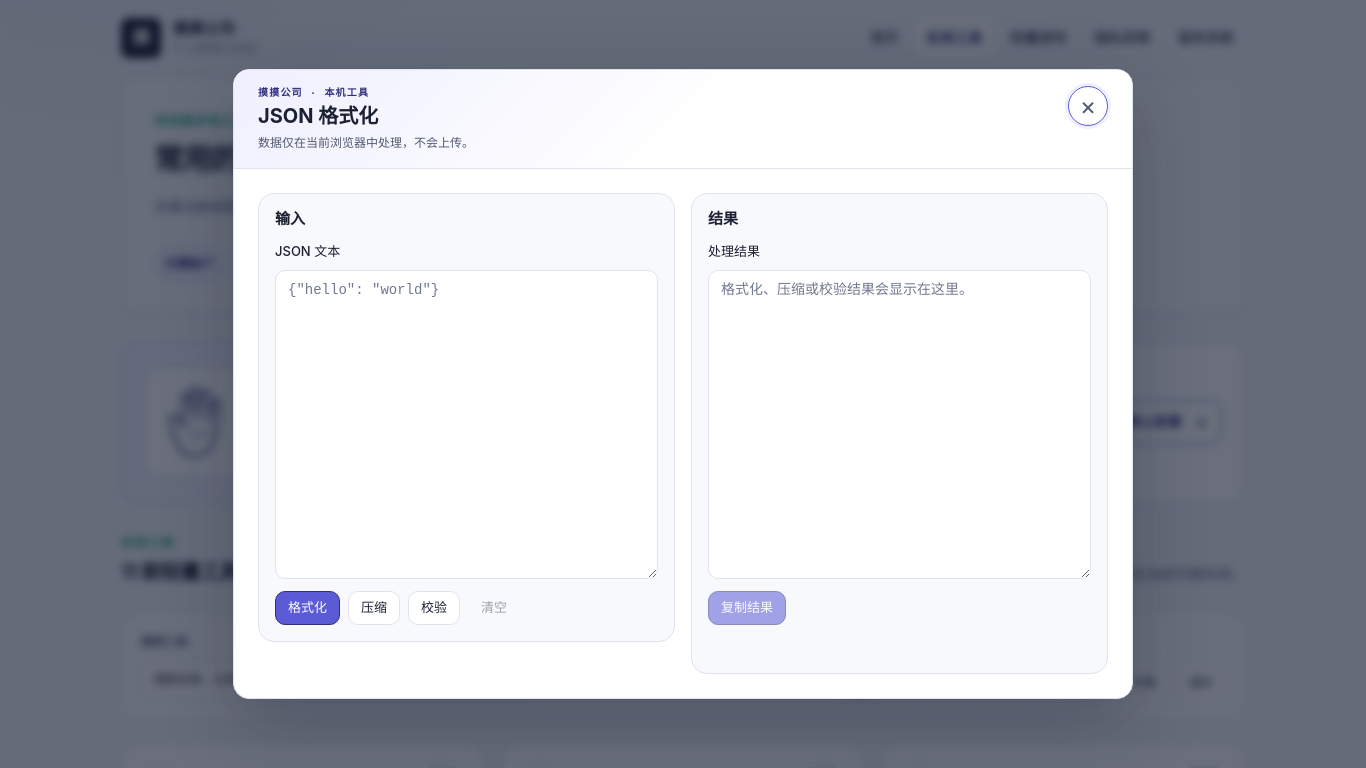
it: PublicToolsPage › opens a whitelisted tool from its public deep link and closes back to the list
expect the dialog "JSON 格式化" is shown: met, box [233,69,1133,699]
expect the text box labelled "JSON 文本" is shown: met, box [275,270,658,579]
Click the button named "关闭" at (1088, 106), box [1068,86,1108,126]
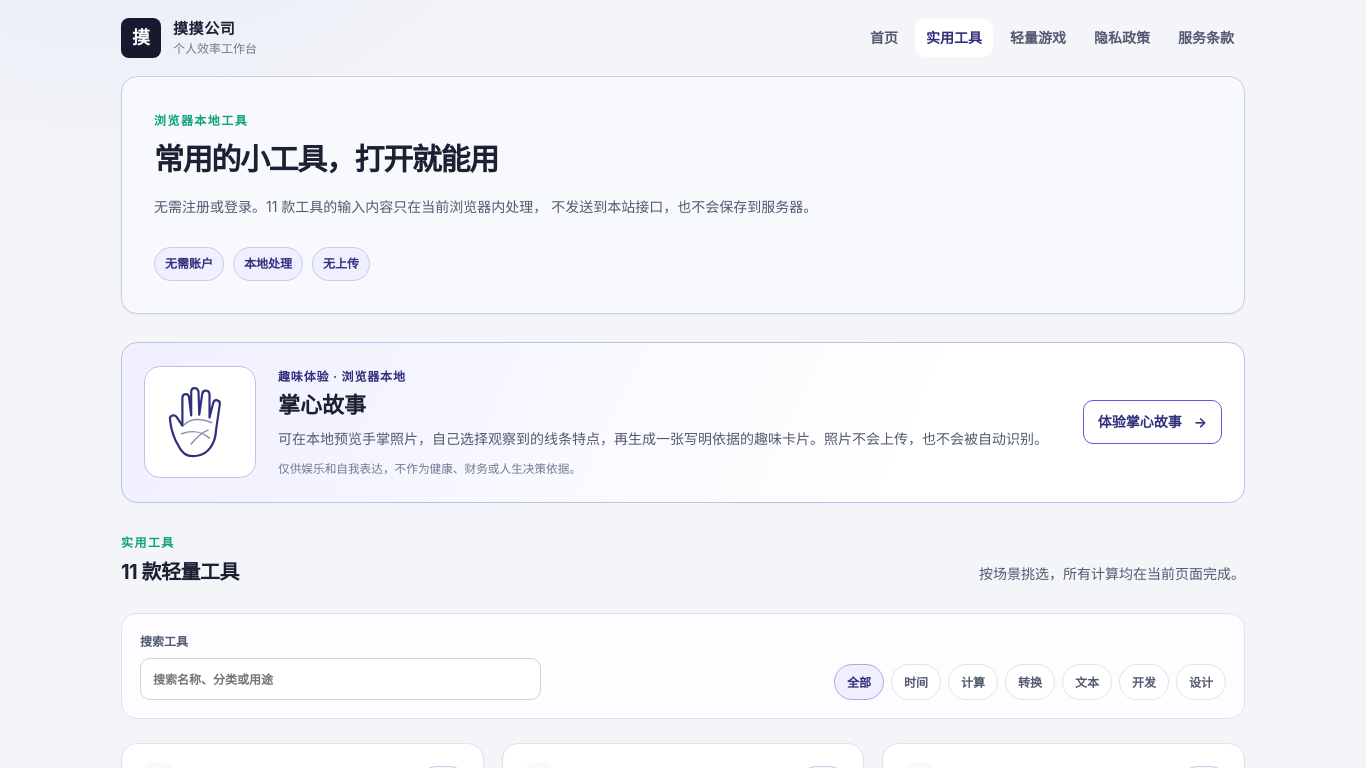
expect the heading "11 款轻量工具" is shown: met, box [121,560,239,585]
expect the dialog is gone: met
